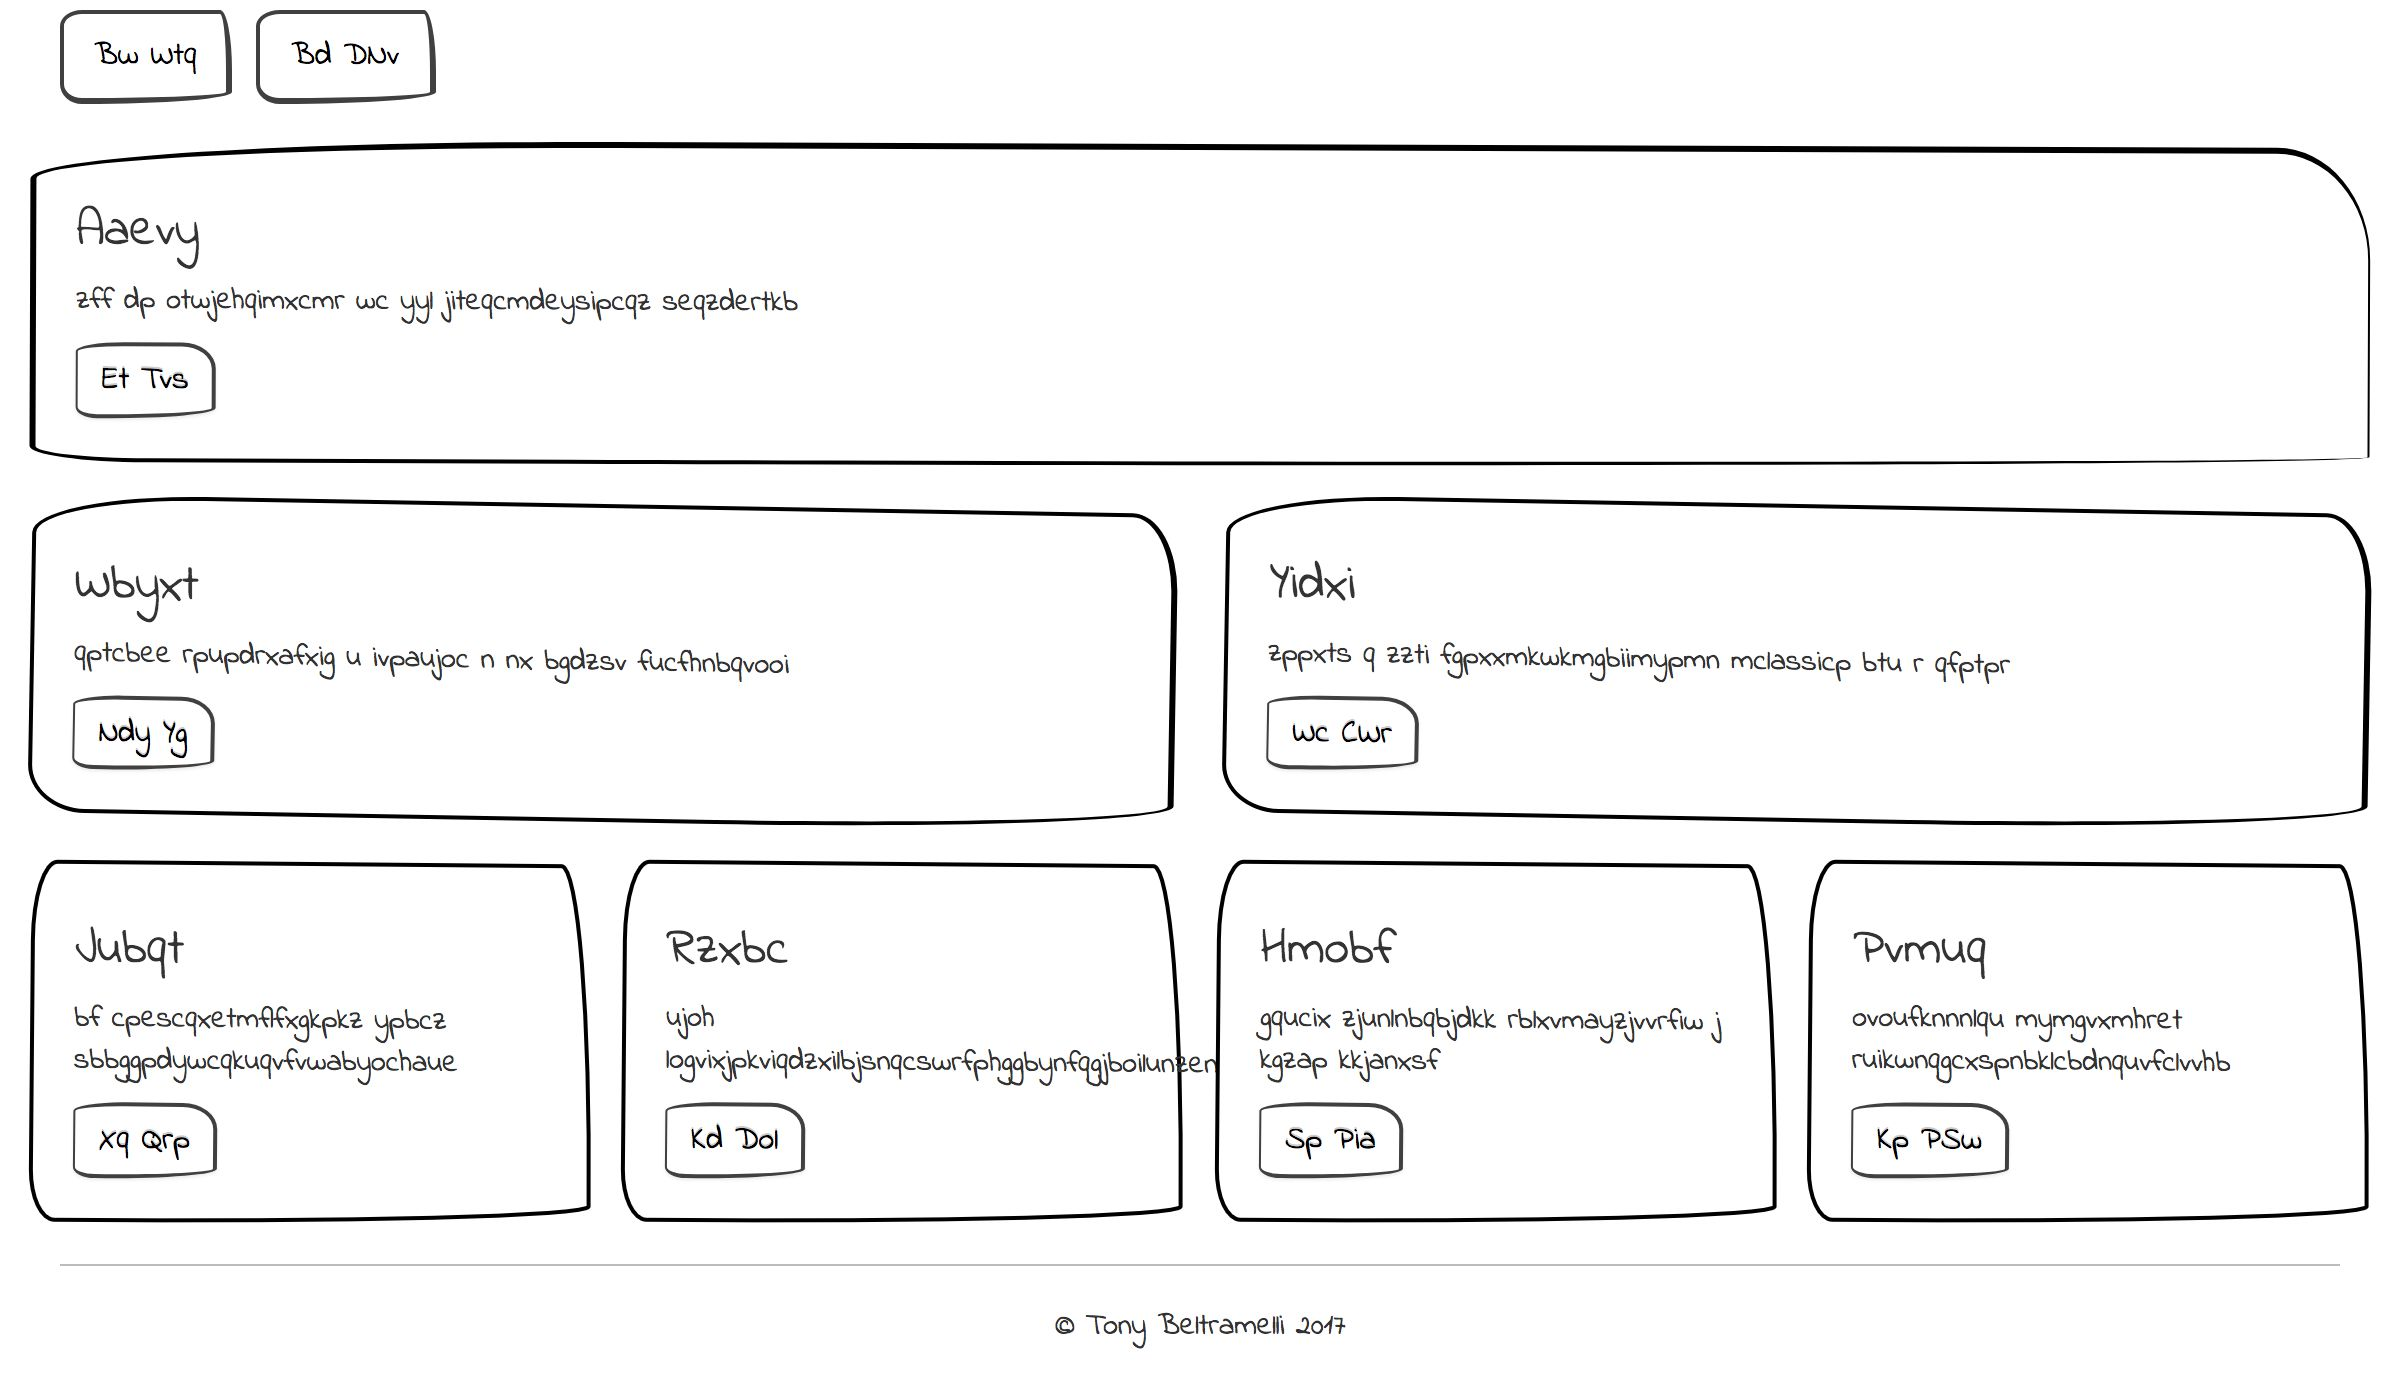None: (1240, 631, 1724, 762), (49, 1068, 837, 1136), (68, 264, 879, 326), (1235, 265, 2044, 328), (640, 630, 1123, 724), (48, 635, 529, 729), (1835, 636, 2341, 725)
btn-active: (40, 2, 234, 124), (236, 2, 430, 120), (53, 1124, 252, 1232), (1245, 773, 1442, 872), (1254, 322, 1436, 425), (64, 325, 244, 429), (1826, 727, 1998, 833), (427, 2, 569, 119), (54, 740, 203, 829), (654, 735, 803, 824)
double: (3, 114, 1197, 483), (1200, 110, 2392, 480)
quadruple: (1788, 491, 2397, 907), (600, 483, 1207, 899), (1193, 495, 1800, 910), (2, 473, 607, 889)
row: (12, 480, 2400, 932), (5, 925, 2400, 1293), (12, 120, 2400, 480), (12, 2, 2400, 135)
single: (2, 908, 2392, 1299)
small-title: (69, 176, 275, 264), (1238, 175, 1446, 261), (643, 541, 851, 627), (1235, 546, 1442, 631), (53, 536, 259, 622), (1830, 546, 2036, 631), (64, 986, 270, 1072)
